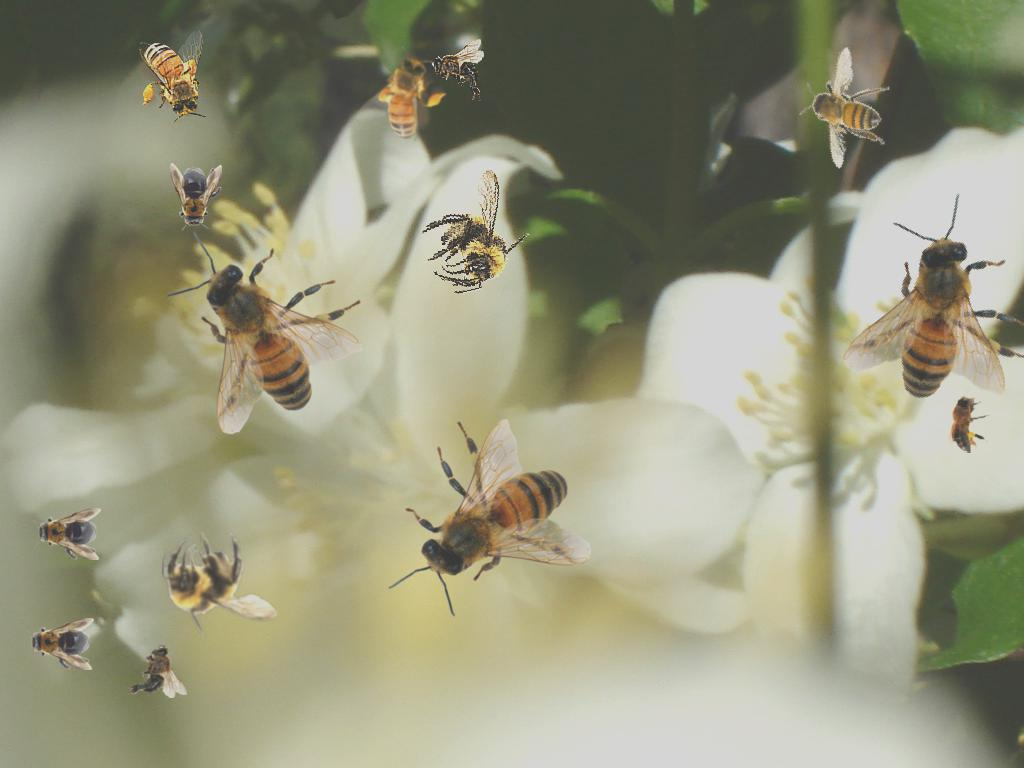Bee: (798, 173, 1024, 459), (388, 419, 592, 618), (164, 231, 363, 435), (408, 162, 541, 301), (782, 36, 911, 176), (349, 40, 461, 157), (162, 532, 277, 639), (139, 30, 207, 123), (26, 618, 94, 670), (33, 508, 101, 560), (170, 163, 222, 231), (431, 39, 484, 101), (125, 645, 187, 698), (945, 387, 990, 453)
